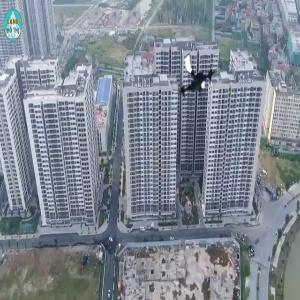drone: (169, 47, 225, 103)
